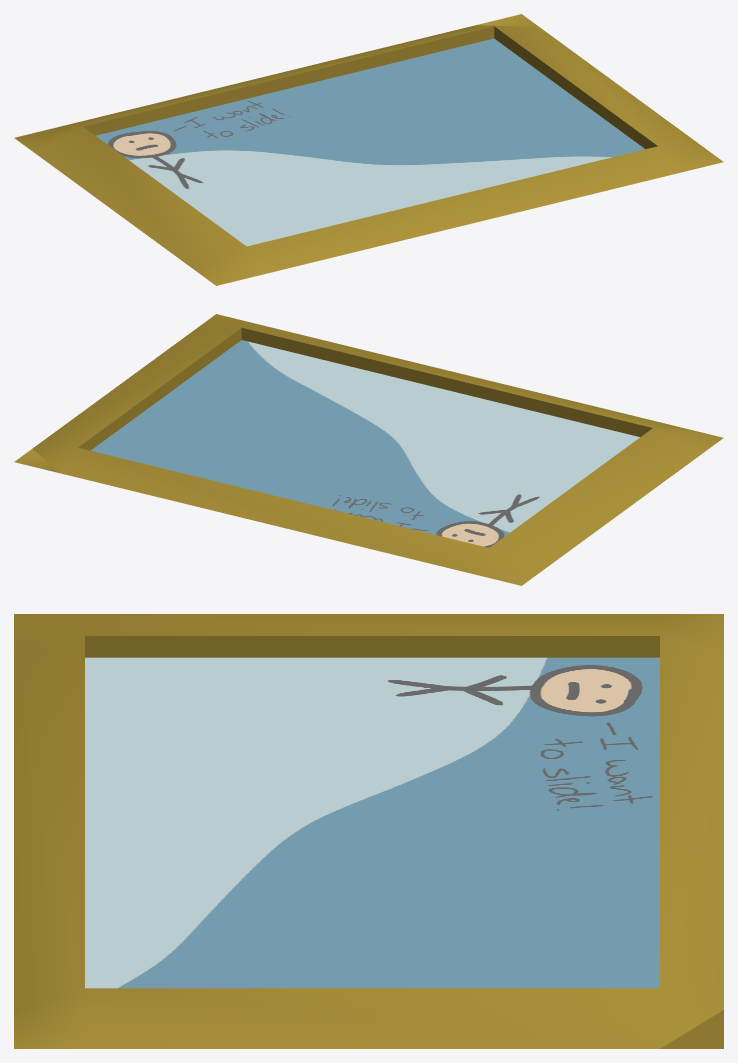
Rendered from WinterPainting.fbx.
The picture shows the model from 3 angles, top to bottom: view 1: azimuth 30°, elevation 25°; view 2: azimuth 150°, elevation 25°; view 3: azimuth 270°, elevation 25°; orthographic projection. The views are drawn at different scales.
Parts seen in each view (by area): view 1: pPlane1, pCube1; view 2: pPlane1, pCube1; view 3: pPlane1, pCube1.
Boxes of the visible parts, bbox=[...] form: pPlane1: bbox=[96, 38, 644, 246]; pCube1: bbox=[14, 14, 723, 285]; pPlane1: bbox=[91, 340, 639, 547]; pCube1: bbox=[14, 314, 723, 585]; pPlane1: bbox=[85, 657, 659, 988]; pCube1: bbox=[14, 614, 723, 1048].
Size of the model in its own units: 9.35 by 0.4312 by 6.45.
2 materials, 1 textured.
